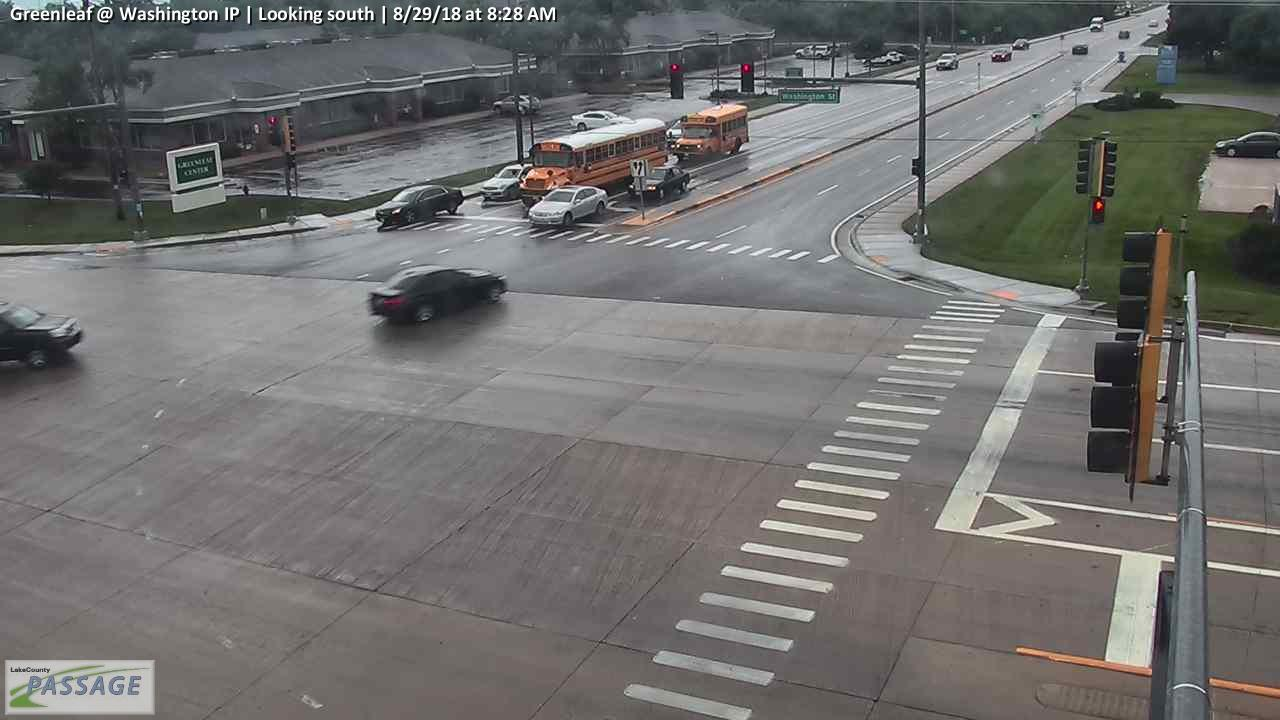Bus: (517, 117, 666, 209), (671, 103, 749, 162)
SUV: (479, 163, 537, 200), (492, 95, 541, 116), (862, 49, 904, 66), (795, 44, 831, 60), (935, 53, 960, 70)
Sedan: (366, 265, 506, 325), (1, 301, 85, 374), (375, 184, 465, 227), (527, 185, 610, 228), (628, 166, 690, 202), (1212, 129, 1280, 158), (570, 109, 631, 133), (991, 48, 1012, 62), (1072, 42, 1089, 55), (1013, 38, 1030, 51)
